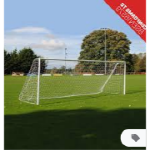goals: (16, 56, 128, 109)
